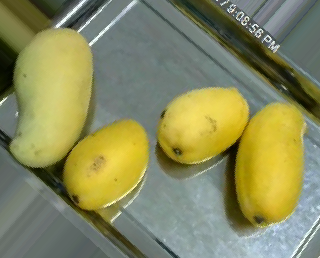Mango: (7, 24, 96, 172), (232, 98, 309, 229), (57, 115, 152, 213), (155, 80, 254, 166)
